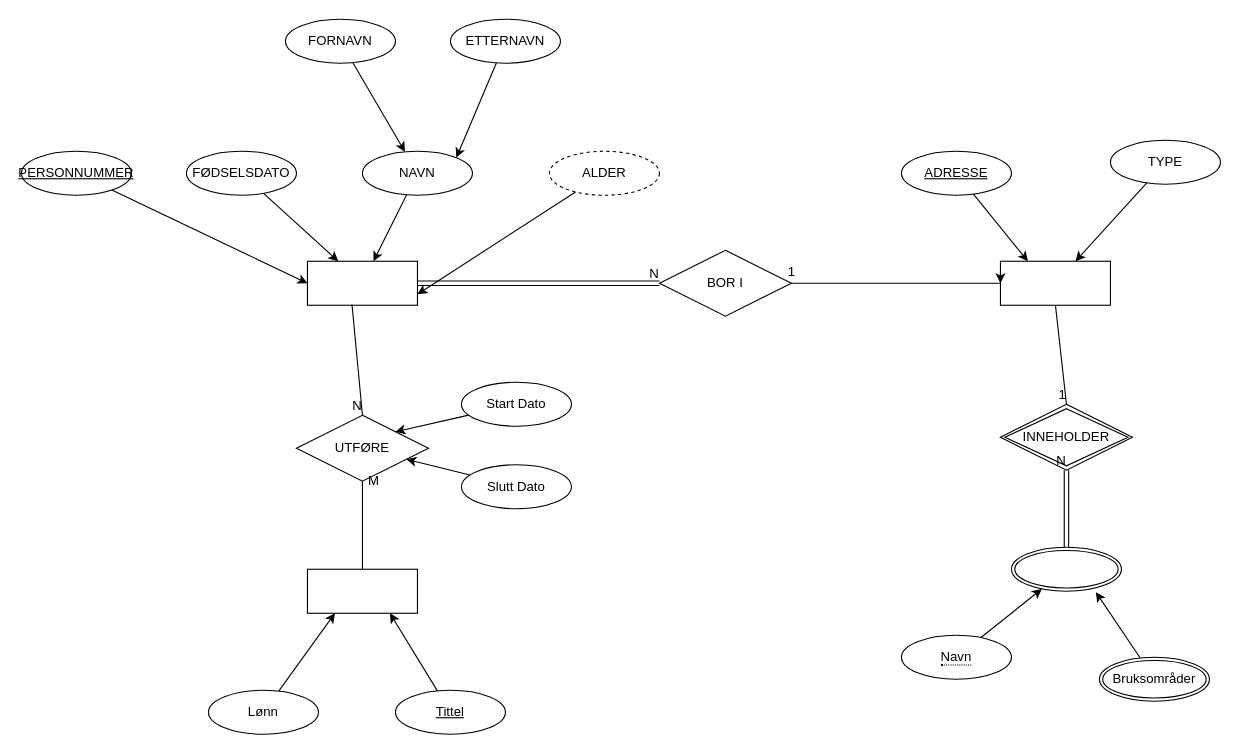
The diagram is 1240 pixels wide and 754 high, and some of its shapes have lost their labels. Here are the shapes that lost their labels. From the top down, the centre of each, then its label:
point 361,282: MENNESKE
point 1054,282: BOLIG
point 1065,568: ROM
point 361,590: YRKE
